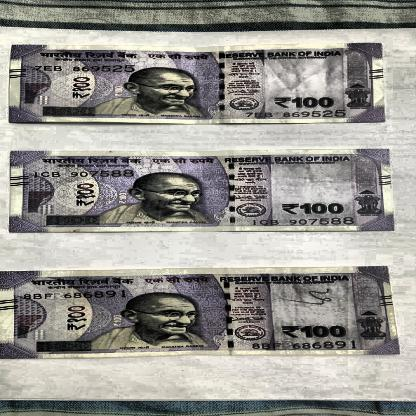Rs100: (276, 323, 352, 340), (277, 201, 349, 217), (268, 96, 340, 110)
